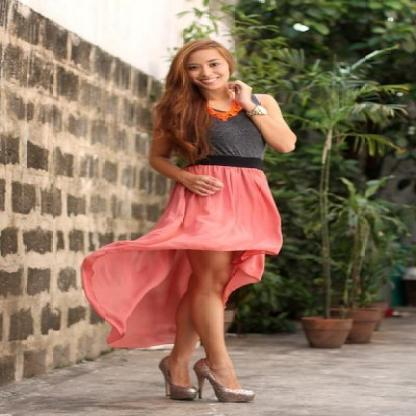shirt: (216, 108, 270, 160)
shoe: (163, 368, 253, 402)
skirt: (73, 165, 282, 349)
